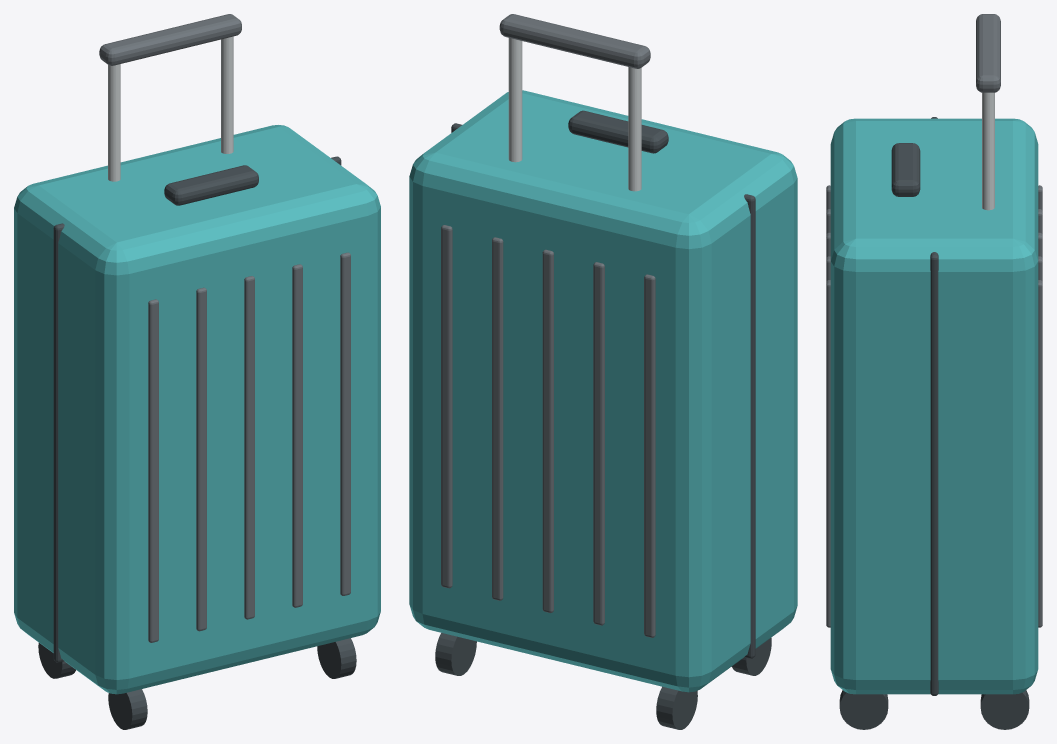
File: checked-suitcase.glb
3 renders of one model, left to right at view 1: azimuth 30°, elevation 25°; view 2: azimuth 150°, elevation 25°; view 3: azimuth 270°, elevation 25°, orthographic. The views are drawn at different scales.
Visible parts, largest first — view 1: Shell, ShellRib0.1473, ShellRib0.1470, ShellRib0.1472, ShellRib0.1474, ShellRib0.1471, HandleGrip, ZipperBand, CarryHandle, HandleRod-0.09200000000000001, HandleRod0.09200000000000001, Wheel-0.170200000000000020.09860000000000001 (+2 smaller); view 2: Shell, ShellRib-0.1473, ShellRib-0.1471, ShellRib-0.1470, ShellRib-0.1474, ShellRib-0.1472, HandleGrip, ZipperBand, CarryHandle, HandleRod0.09200000000000001, HandleRod-0.09200000000000001, Wheel-0.17020000000000002-0.09860000000000001 (+2 smaller); view 3: Shell, ZipperBand, HandleGrip, ShellRib-0.1474, ShellRib0.1474, Wheel0.17020000000000002-0.09860000000000001, Wheel0.170200000000000020.09860000000000001, CarryHandle, HandleRod0.09200000000000001.
Boxes of the visible parts, x1,y1,x2,y2 form: Shell: (14, 125, 380, 694); ShellRib0.1473: (292, 264, 302, 607); ShellRib0.1470: (148, 299, 158, 642); ShellRib0.1472: (244, 276, 254, 619); ShellRib0.1474: (340, 252, 350, 595); ShellRib0.1471: (196, 287, 206, 631); HandleGrip: (99, 14, 241, 65); ZipperBand: (53, 156, 341, 662); CarryHandle: (164, 165, 258, 205); HandleRod-0.09200000000000001: (108, 64, 120, 181); HandleRod0.09200000000000001: (221, 36, 233, 153); Wheel-0.170200000000000020.09860000000000001: (108, 689, 147, 729); Shell: (409, 90, 797, 692); ShellRib-0.1473: (492, 237, 503, 600); ShellRib-0.1471: (593, 262, 604, 625); ShellRib-0.1470: (644, 274, 655, 637); ShellRib-0.1474: (441, 225, 452, 588); ShellRib-0.1472: (542, 249, 553, 612); HandleGrip: (499, 14, 650, 68); ZipperBand: (451, 123, 755, 658); CarryHandle: (568, 110, 668, 153); HandleRod0.09200000000000001: (508, 38, 522, 162); HandleRod-0.09200000000000001: (628, 67, 641, 191); Wheel-0.17020000000000002-0.09860000000000001: (656, 686, 697, 729); Shell: (830, 118, 1038, 694); ZipperBand: (930, 117, 938, 695); HandleGrip: (976, 14, 1000, 92); ShellRib-0.1474: (1038, 280, 1042, 627); ShellRib0.1474: (826, 280, 830, 627); Wheel0.17020000000000002-0.09860000000000001: (980, 690, 1029, 729); Wheel0.170200000000000020.09860000000000001: (839, 690, 888, 729); CarryHandle: (891, 143, 920, 196); HandleRod0.09200000000000001: (982, 92, 994, 210).
Bounding box in the file's own units: 0.466 × 0.972 × 0.303.
